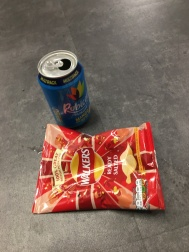can_blue: (30, 47, 109, 130)
